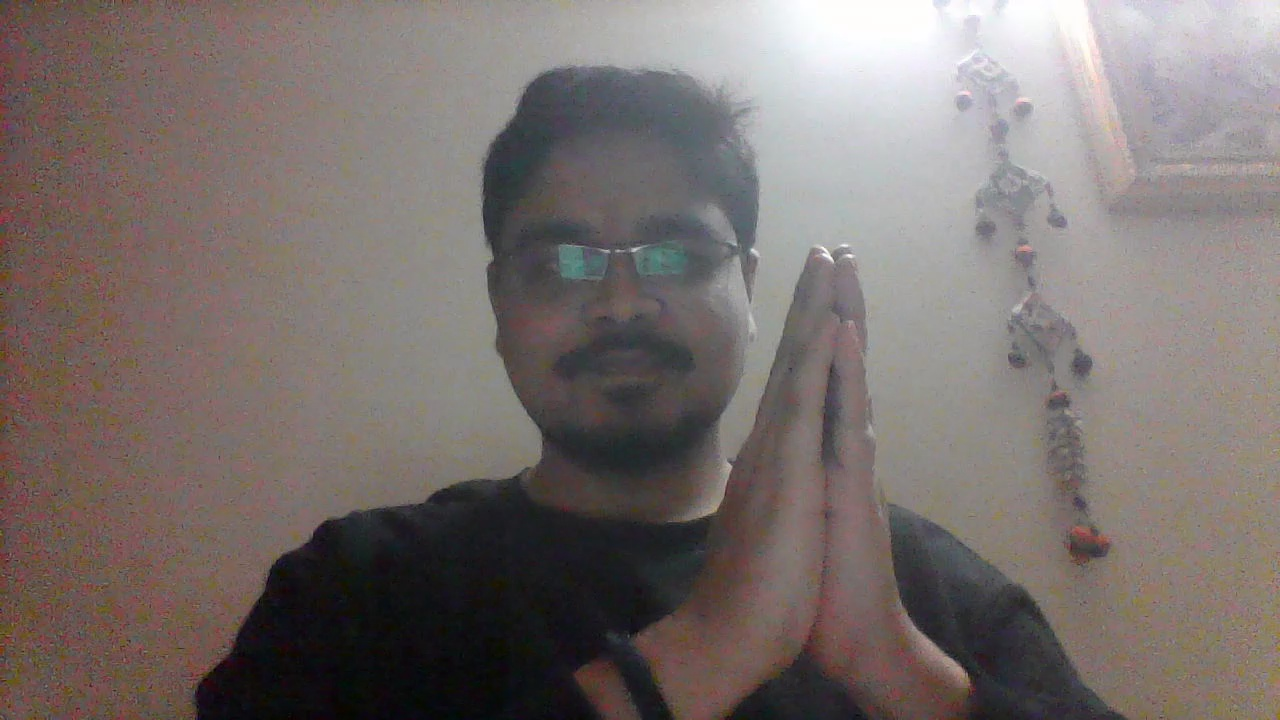Namaste: (691, 229, 941, 685)
